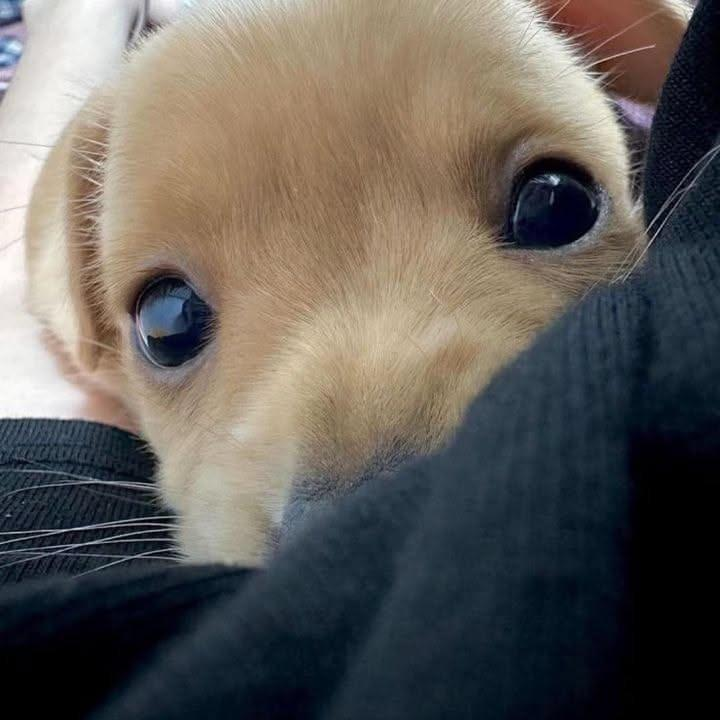puppy-dog: (17, 0, 654, 580)
